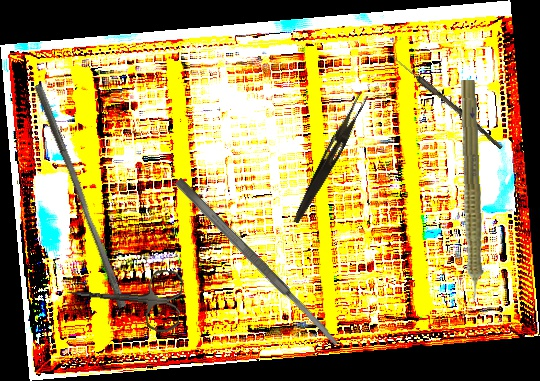Dressing Forceps: (291, 89, 369, 228)
Handpiece: (450, 79, 489, 318)
Iris Scissors: (64, 260, 184, 334)
Pusher: (25, 82, 135, 310)
Spatula Surgical: (173, 175, 341, 350)
Surgical Spoon: (386, 51, 505, 150)
